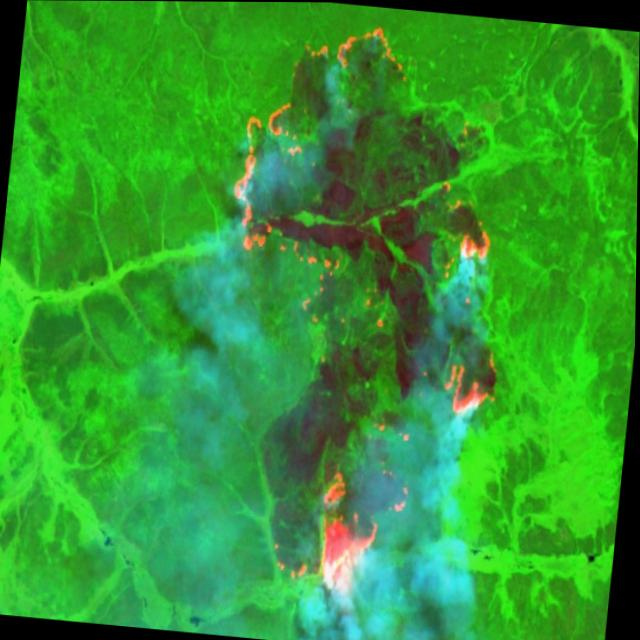fire: (222, 11, 423, 284), (267, 454, 419, 605), (433, 204, 523, 433)
